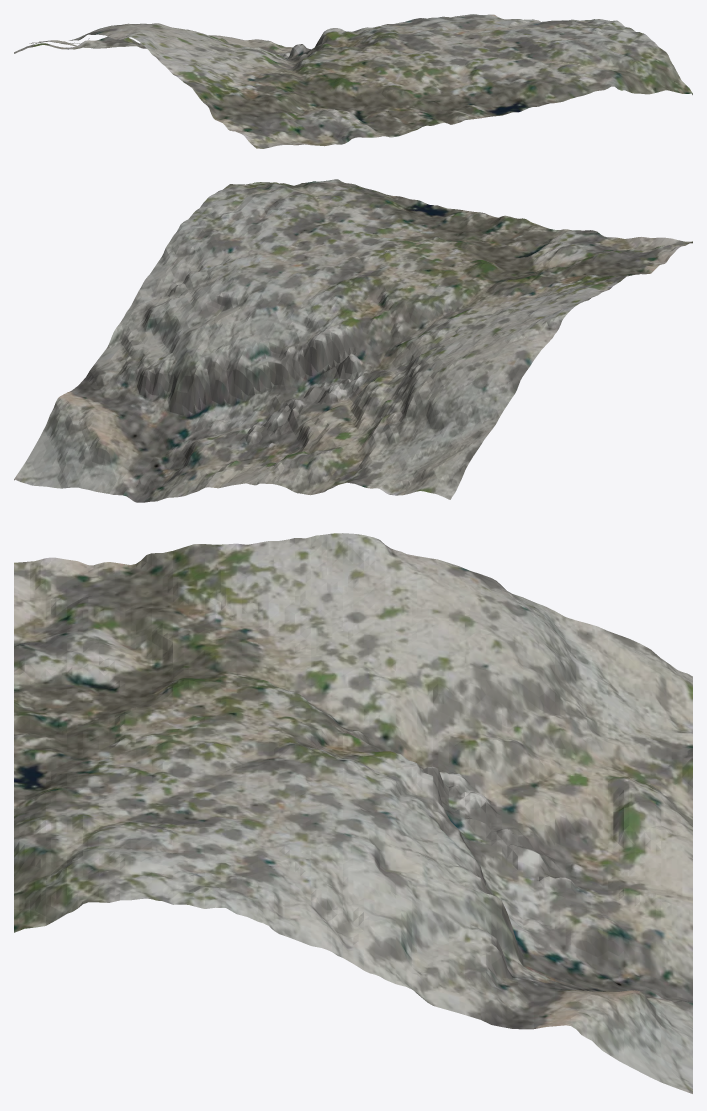
3 views of the same model, one above another, from view 1: azimuth 30°, elevation 25°; view 2: azimuth 150°, elevation 25°; view 3: azimuth 270°, elevation 25° (orthographic). The views are drawn at different scales.
Size of the model in its own units: 250 by 105 by 241.
1 material, 1 textured.
